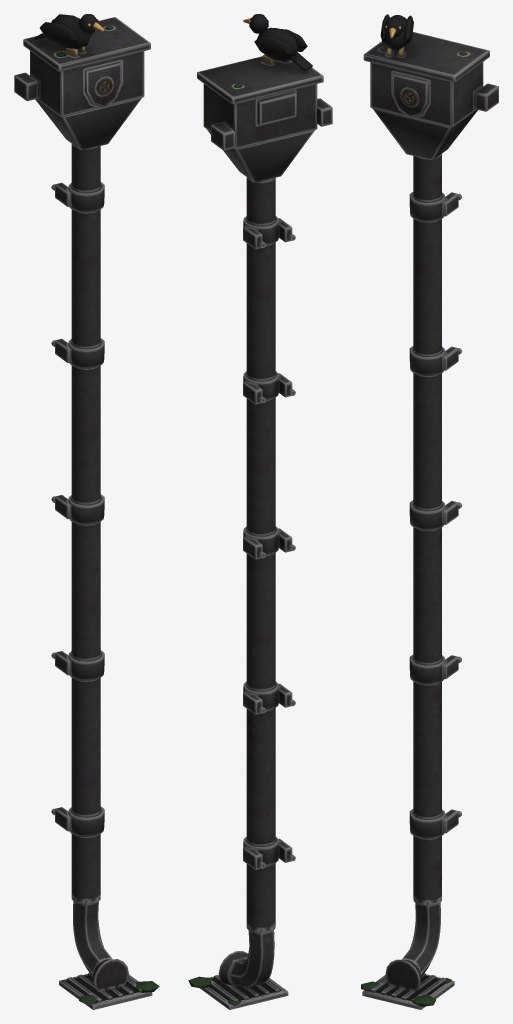
Rendered from Drainpipe.fbx.
3 views of the same model, side by side, from view 1: azimuth 30°, elevation 25°; view 2: azimuth 210°, elevation 25°; view 3: azimuth 330°, elevation 25° (orthographic).
Visible parts, largest first — view 1: Drainpipe; view 2: Drainpipe; view 3: Drainpipe.
Boxes of the visible parts, box(x1,y1,x2,y2) form: Drainpipe: box(14, 14, 159, 1009); Drainpipe: box(188, 14, 332, 1009); Drainpipe: box(361, 14, 498, 1009).
Size of the model in its own units: 148 by 1256 by 128.
